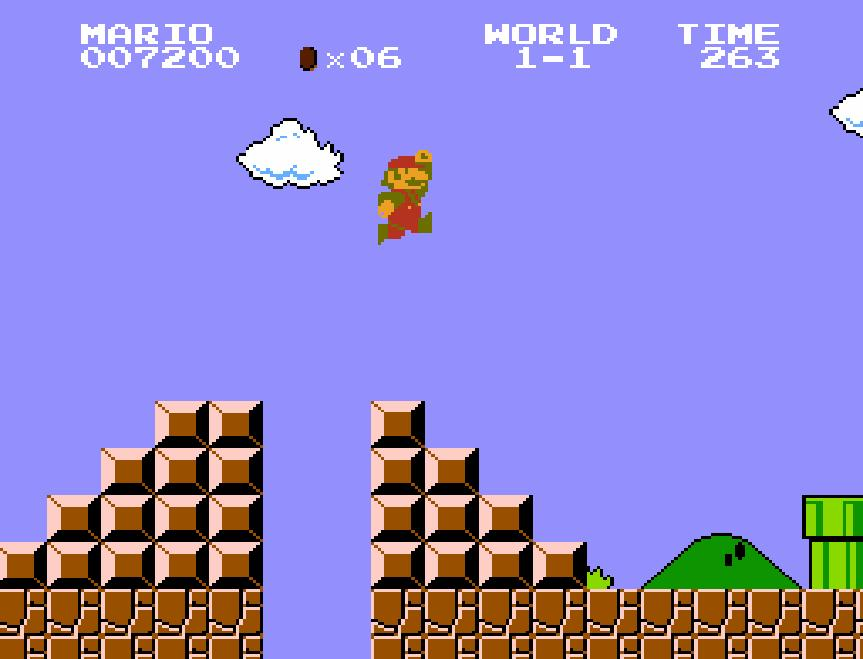big_mario: (376, 148, 434, 246)
